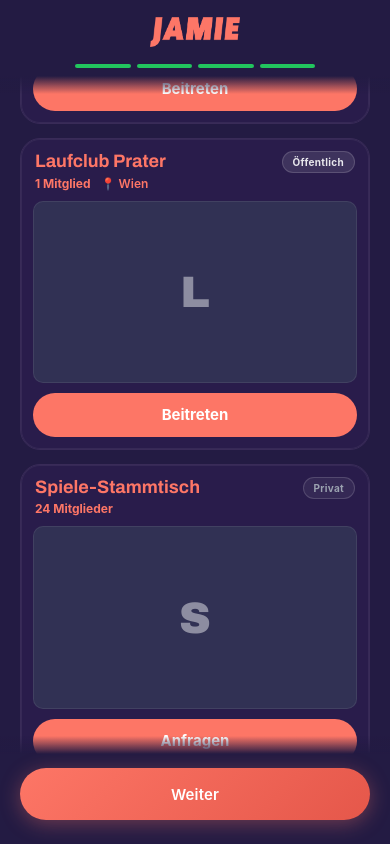
Test: OnboardingClubs — joining › maps ALREADY_MEMBER onto the button
This screenshot has width=390, height=844.
(page scrolled)
What coordinates should you click on to do the following:
click the button "Beitreten" below "Laufclub Prater"
I would click on:
 (195, 415)
Its box is [33, 393, 357, 437].
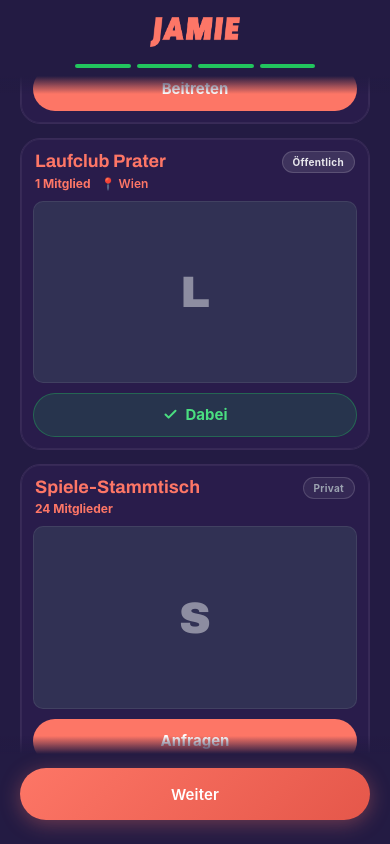
Result: the button "Dabei" is shown at [33, 393, 357, 437]
Result: the button "Dabei" is disabled at [33, 393, 357, 437]
